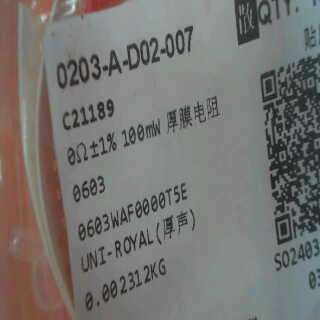0R: (65, 126, 119, 202)
